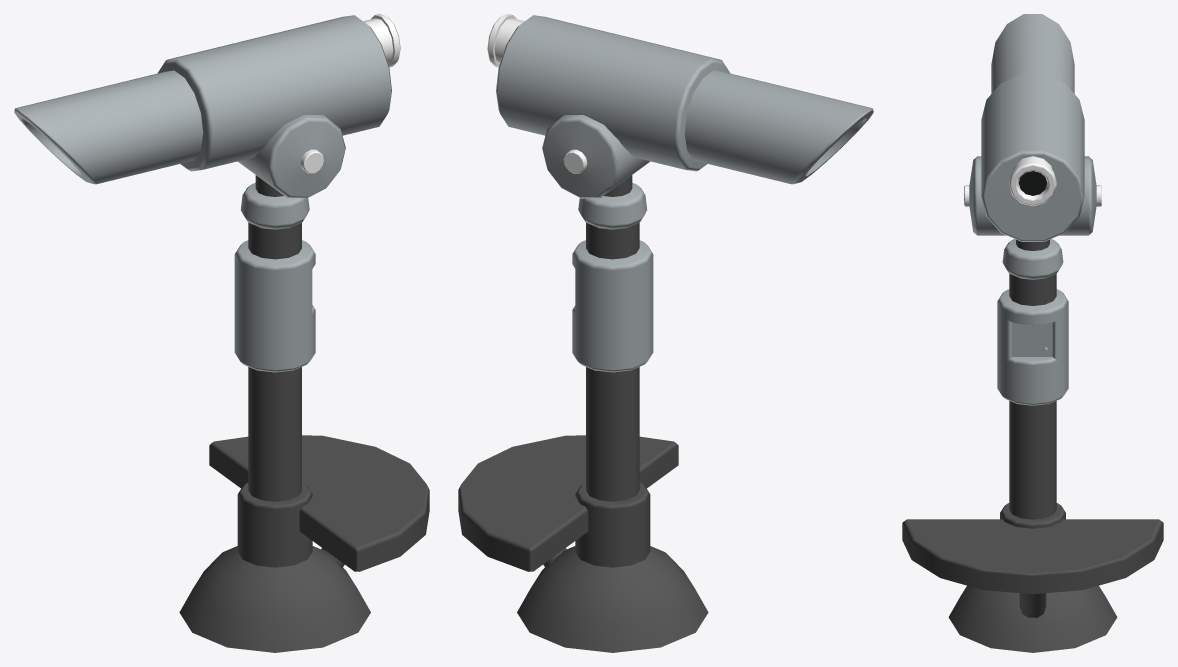
File: CoinOperatedBinoculars.fbx
The picture shows the model from 3 angles, left to right: view 1: azimuth 30°, elevation 25°; view 2: azimuth 150°, elevation 25°; view 3: azimuth 270°, elevation 25°; orthographic projection. The views are drawn at different scales.
Parts seen in each view (by area): view 1: Cylinder.006, Cylinder.003, Cylinder.007, Cylinder.005, Cylinder.004; view 2: Cylinder.006, Cylinder.003, Cylinder.007, Cylinder.005, Cylinder.004; view 3: Cylinder.006, Cylinder.003, Cylinder.007, Cylinder.005, Cylinder.004, Cylinder.010, Cylinder.008.
Boxes of the visible parts, left/top/right/bottom form: Cylinder.006: left=179, top=175, right=370, bottom=652; Cylinder.003: left=14, top=15, right=391, bottom=184; Cylinder.007: left=209, top=435, right=429, bottom=571; Cylinder.005: left=237, top=115, right=345, bottom=198; Cylinder.004: left=363, top=14, right=400, bottom=67; Cylinder.006: left=517, top=175, right=708, bottom=652; Cylinder.003: left=496, top=15, right=873, bottom=184; Cylinder.007: left=458, top=435, right=678, bottom=571; Cylinder.005: left=542, top=115, right=650, bottom=198; Cylinder.004: left=487, top=14, right=524, bottom=67; Cylinder.006: left=948, top=239, right=1117, bottom=652; Cylinder.003: left=981, top=14, right=1084, bottom=241; Cylinder.007: left=902, top=519, right=1163, bottom=594; Cylinder.005: left=964, top=156, right=1101, bottom=235; Cylinder.004: left=1009, top=156, right=1056, bottom=205; Cylinder.010: left=1012, top=322, right=1052, bottom=356; Cylinder.008: left=1019, top=593, right=1046, bottom=617.
Size of the model in its own units: 1.08 by 1.51 by 0.7122.
